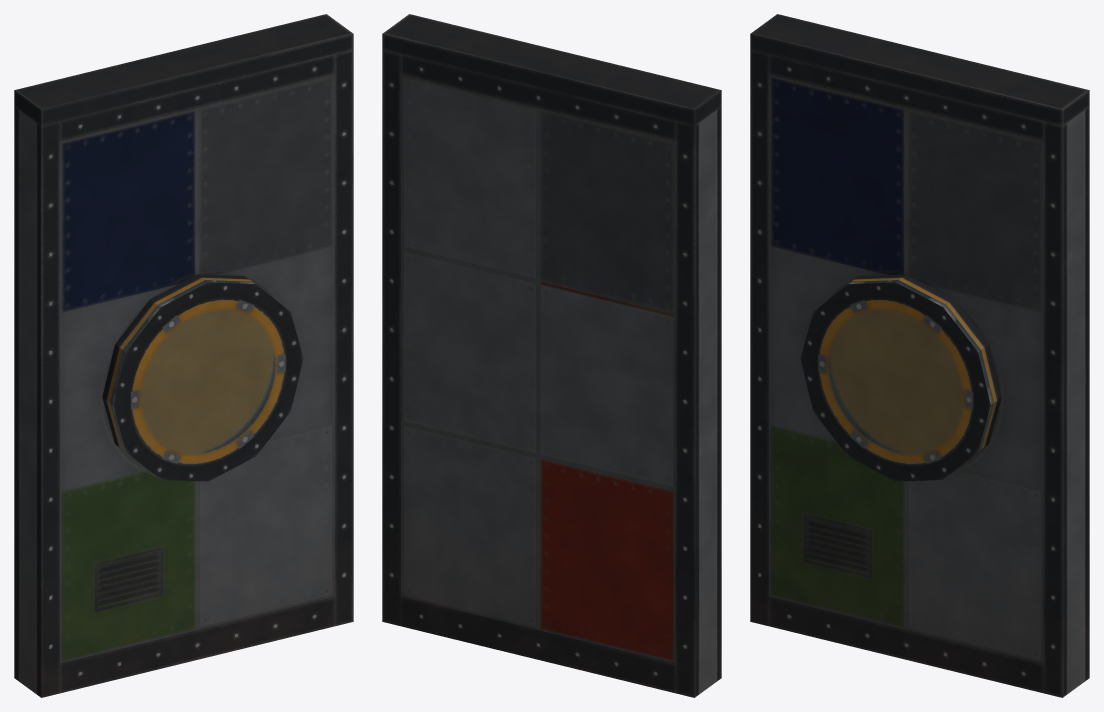
The model's file is hull_wall_port_b.glb.
3 renders of one model, left to right at view 1: azimuth 30°, elevation 25°; view 2: azimuth 150°, elevation 25°; view 3: azimuth 330°, elevation 25°, orthographic.
Visible parts, largest first — view 1: hull_wall_port_b; view 2: hull_wall_port_b; view 3: hull_wall_port_b.
Boxes of the visible parts, x1=… form: hull_wall_port_b: x1=14, y1=14, x2=353, y2=697; hull_wall_port_b: x1=382, y1=14, x2=721, y2=697; hull_wall_port_b: x1=750, y1=14, x2=1089, y2=697.
Bounding box in the file's own units: 2 × 3.6 × 0.42.
Materials: 1 (1 with a texture image).
